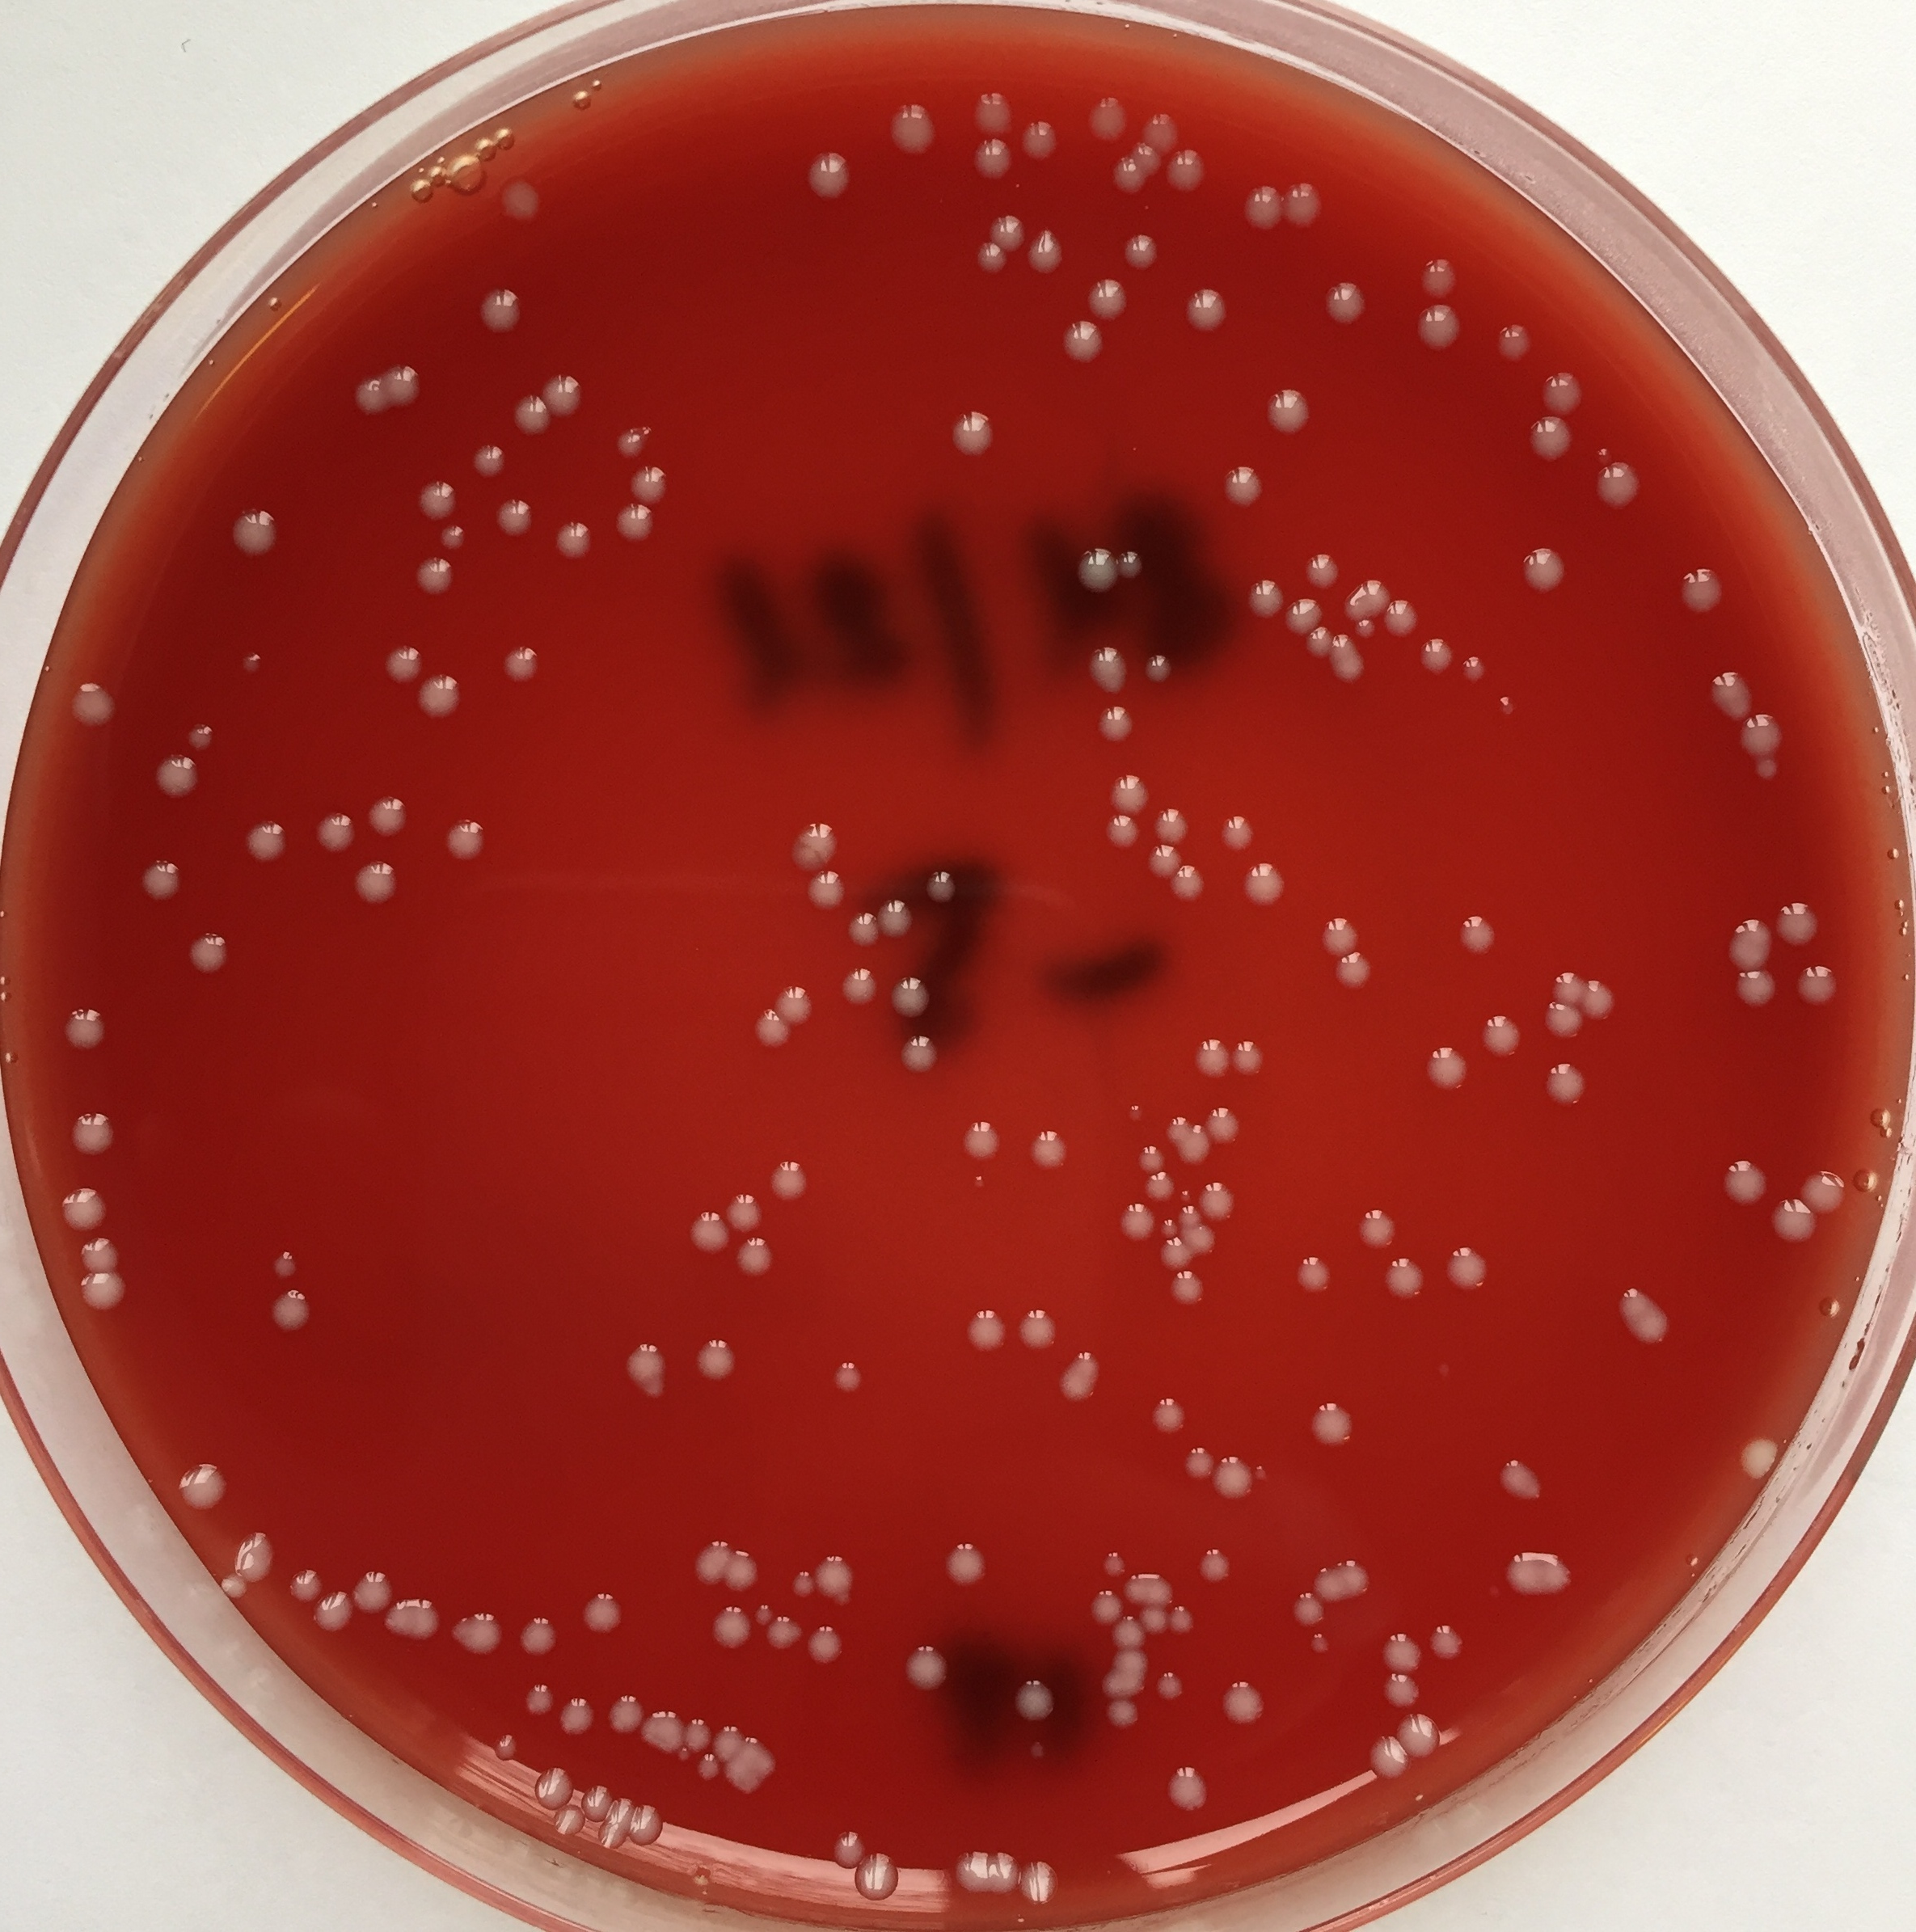sp22: (1607, 1281, 1681, 1356), (1304, 1374, 1363, 1460), (876, 84, 933, 165), (800, 142, 860, 219), (1500, 1548, 1579, 1604), (1490, 1444, 1556, 1506), (128, 851, 193, 911), (260, 1283, 323, 1342), (619, 1330, 670, 1404), (177, 930, 244, 986), (468, 279, 528, 340), (1669, 565, 1741, 616), (695, 1330, 742, 1407), (1700, 663, 1758, 726), (67, 670, 118, 741), (60, 1109, 119, 1167), (491, 172, 546, 235), (954, 1297, 1007, 1362), (170, 1458, 237, 1509), (1283, 165, 1328, 239), (226, 505, 284, 563), (1516, 542, 1574, 600), (1437, 1242, 1498, 1297), (1772, 886, 1825, 949), (1226, 1665, 1276, 1732), (1723, 1421, 1779, 1479), (149, 755, 209, 809), (937, 1534, 997, 1588), (1412, 298, 1463, 361), (1712, 1142, 1763, 1206), (405, 553, 461, 609), (893, 1639, 949, 1695), (495, 640, 553, 695), (1062, 1348, 1105, 1418), (439, 809, 495, 863), (944, 402, 1004, 453), (305, 800, 354, 860), (442, 1607, 504, 1655), (851, 1844, 902, 1900), (1804, 1158, 1860, 1209), (1721, 914, 1772, 970), (1319, 272, 1367, 332), (684, 1528, 728, 1592), (1005, 1674, 1058, 1727), (1169, 1751, 1212, 1814), (381, 1600, 442, 1644), (735, 1239, 786, 1292), (826, 1348, 881, 1397), (1418, 1041, 1472, 1090), (354, 863, 402, 919), (1218, 453, 1263, 511), (1795, 962, 1841, 1020), (360, 791, 411, 842), (1453, 907, 1504, 958), (1728, 967, 1779, 1018), (812, 1549, 860, 1604), (1086, 640, 1132, 697), (1588, 463, 1644, 509), (1534, 1065, 1590, 1111), (967, 82, 1009, 142), (1732, 714, 1791, 756), (1262, 383, 1312, 432), (1014, 1304, 1063, 1355), (56, 1186, 111, 1232), (61, 995, 105, 1051), (416, 674, 467, 721), (1088, 82, 1128, 142), (240, 816, 286, 869), (372, 639, 418, 691), (1490, 312, 1535, 365), (1242, 855, 1286, 909), (1026, 1114, 1069, 1170), (732, 1742, 772, 1800), (1062, 311, 1102, 369), (1183, 1035, 1232, 1083), (1014, 112, 1062, 161), (1770, 1202, 1819, 1249), (1062, 540, 1112, 586), (530, 1762, 576, 1813), (1321, 633, 1367, 684), (1532, 370, 1583, 416), (1423, 1618, 1469, 1669), (556, 1688, 598, 1742), (1021, 1855, 1063, 1909), (1242, 565, 1283, 621), (1167, 144, 1214, 191), (309, 1585, 353, 1635), (704, 1602, 747, 1653), (1476, 1005, 1518, 1058), (409, 477, 463, 518), (1184, 279, 1223, 335), (1286, 1251, 1333, 1297), (1091, 702, 1137, 749), (1088, 275, 1132, 325), (1526, 416, 1570, 465), (237, 1525, 279, 1576), (1339, 572, 1390, 614), (1365, 1728, 1402, 1786), (770, 1153, 811, 1206), (521, 1672, 556, 1732), (954, 1116, 998, 1163), (897, 1037, 944, 1081), (793, 818, 840, 862), (774, 977, 816, 1027), (1242, 179, 1279, 235), (1379, 591, 1419, 642), (1577, 970, 1618, 1021), (1126, 1565, 1179, 1604), (182, 714, 228, 758), (1400, 1711, 1446, 1755), (1383, 1258, 1426, 1304), (1100, 1697, 1147, 1739), (639, 1707, 690, 1746), (926, 858, 963, 911), (1026, 223, 1063, 275), (79, 1274, 125, 1316), (581, 1592, 626, 1634), (1379, 1628, 1421, 1674), (544, 369, 586, 414), (805, 1621, 846, 1669), (1197, 1176, 1237, 1223), (1365, 1204, 1404, 1253), (953, 1841, 986, 1897), (514, 1613, 556, 1657), (600, 1692, 644, 1734), (1379, 1672, 1421, 1716), (1111, 770, 1155, 812), (630, 460, 674, 502), (612, 504, 654, 547), (1414, 258, 1458, 300), (1537, 998, 1581, 1041), (611, 414, 651, 460), (1412, 632, 1453, 677), (686, 1204, 725, 1251), (388, 358, 421, 412), (630, 1806, 665, 1857), (351, 1571, 393, 1613), (551, 518, 593, 560), (495, 497, 535, 540), (1097, 1669, 1146, 1704), (986, 1848, 1018, 1902), (883, 897, 923, 939), (1119, 539, 1153, 590), (74, 1237, 125, 1270), (282, 1563, 326, 1602), (1123, 226, 1162, 270), (767, 1613, 804, 1658), (723, 1188, 760, 1234), (1179, 1223, 1225, 1260), (839, 963, 876, 1009), (347, 369, 384, 414), (472, 442, 514, 481), (1144, 102, 1183, 144), (1546, 967, 1584, 1009), (1214, 1453, 1251, 1497), (1339, 953, 1376, 997), (983, 212, 1030, 246), (1198, 1544, 1239, 1583), (1107, 1609, 1147, 1648), (893, 972, 932, 1013), (235, 648, 277, 684), (211, 1569, 253, 1606), (488, 1728, 530, 1765), (709, 1718, 740, 1767), (1205, 1102, 1242, 1144), (1104, 818, 1146, 855), (1297, 539, 1333, 581), (512, 393, 549, 435), (1286, 593, 1321, 637), (1119, 1202, 1153, 1248), (549, 1802, 588, 1841), (823, 1834, 863, 1871), (805, 869, 842, 909), (751, 1007, 786, 1049), (970, 146, 1012, 181), (1156, 1235, 1195, 1272), (1177, 863, 1216, 900), (1177, 1442, 1212, 1483), (1169, 1276, 1209, 1311), (1286, 1593, 1326, 1627), (1223, 812, 1256, 853), (725, 1549, 756, 1592), (690, 1751, 721, 1793), (1146, 1170, 1177, 1213), (1181, 1121, 1212, 1163), (1235, 1035, 1267, 1077), (1149, 841, 1184, 877), (1325, 911, 1353, 956), (581, 1779, 612, 1820), (1149, 1388, 1179, 1430), (1132, 139, 1160, 182), (1139, 651, 1176, 684), (1162, 1665, 1191, 1706), (1158, 795, 1186, 837), (263, 1244, 300, 1276), (591, 1823, 628, 1855), (1102, 1649, 1147, 1674), (1091, 1586, 1125, 1620), (844, 912, 877, 946), (1109, 153, 1137, 191), (1344, 1553, 1367, 1600), (607, 1792, 640, 1823), (1311, 1563, 1344, 1595), (1453, 653, 1488, 683), (683, 1714, 712, 1748), (1753, 758, 1786, 788), (1135, 1144, 1163, 1179), (974, 246, 1007, 274), (963, 1174, 990, 1206), (1490, 691, 1516, 723), (439, 519, 465, 549), (1590, 433, 1616, 463), (1163, 1114, 1186, 1148), (753, 1595, 774, 1630), (1304, 1632, 1332, 1658), (1309, 626, 1330, 662), (1100, 1539, 1121, 1572), (793, 1562, 812, 1597), (1169, 1607, 1193, 1634), (1123, 1098, 1147, 1125), (1146, 1606, 1165, 1637), (1353, 618, 1381, 637), (670, 1744, 690, 1771), (1172, 1183, 1191, 1207), (1251, 1460, 1267, 1483), (1162, 1213, 1176, 1237), (1177, 1213, 1197, 1223)
